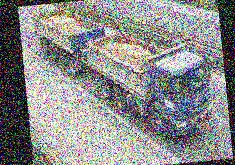truck: (31, 0, 217, 152)
